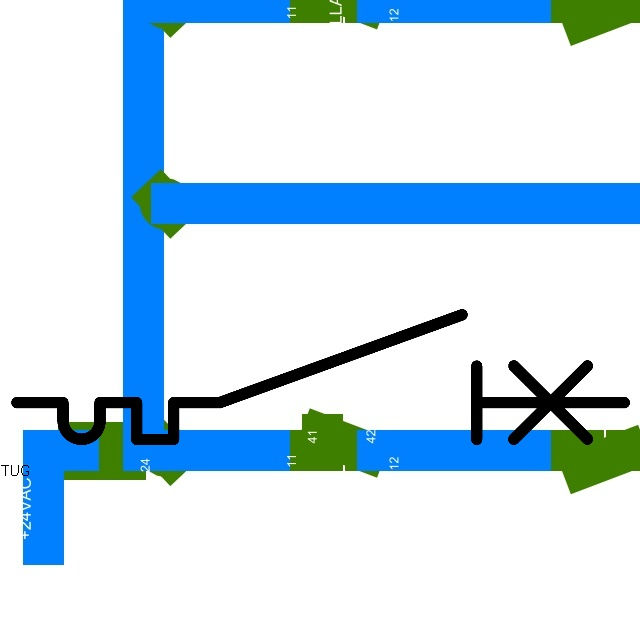interruptor_termomagnetico: (1, 299, 640, 455)
